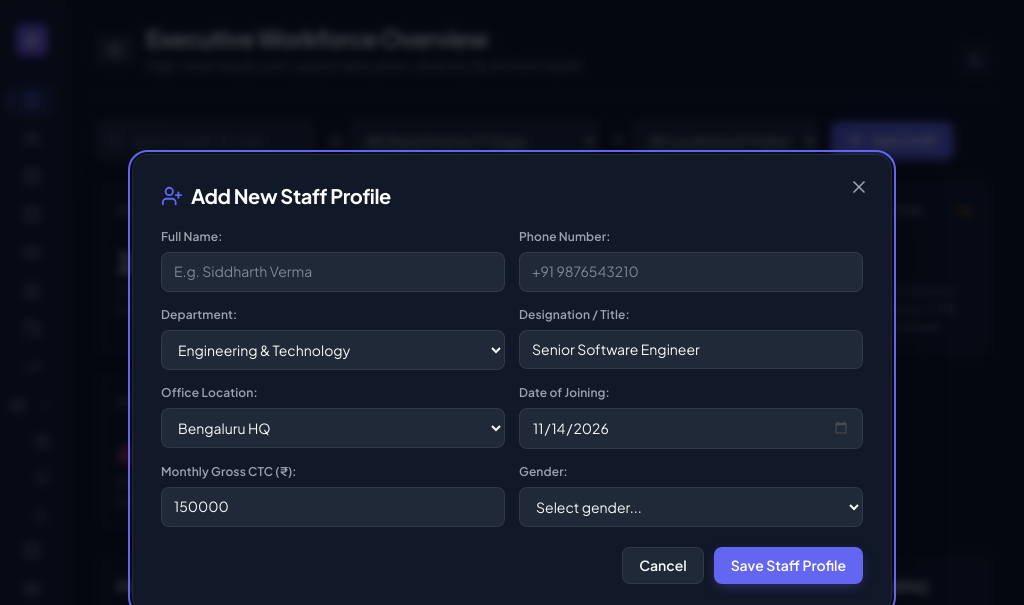
Test: App destructive and confirmational actions › asks before resetting the register, and says what is lost
This screenshot has width=1024, height=605.
Earlier steps of the test are not shown.
In the field labelled "Full Name:": (333, 272) [161,252,505,292], type "Rhea Kapoor"
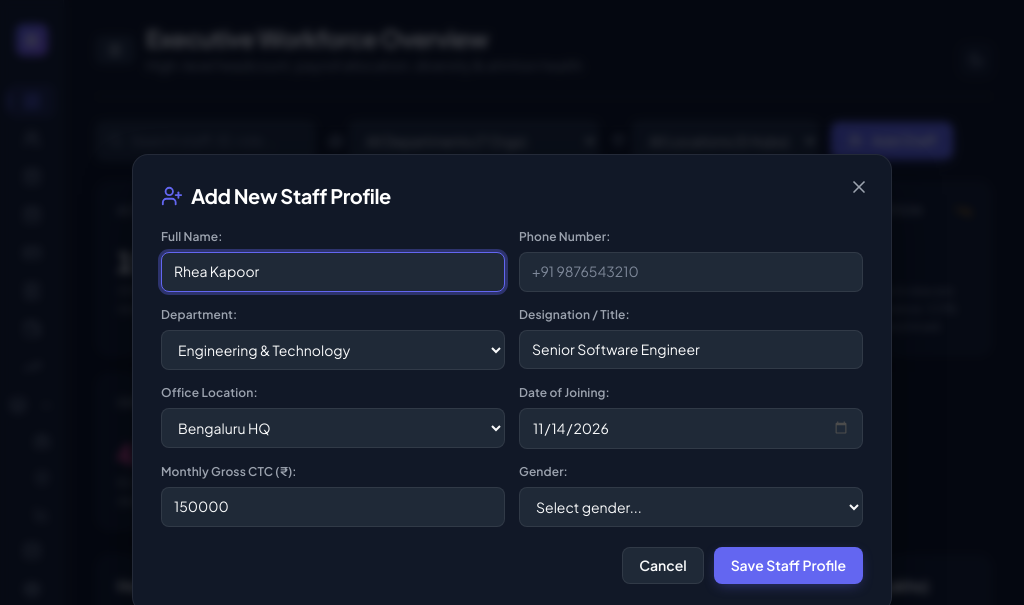
Select "Female" in the dropdown labelled "Gender:": (691, 508) [519,488,863,528]
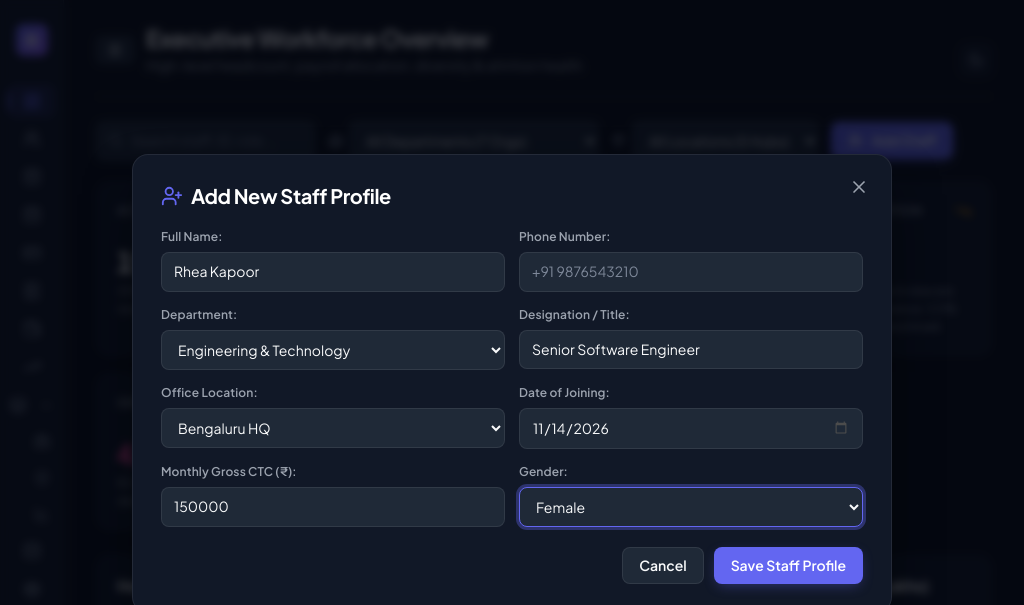
Click the button "Save Staff Profile": (788, 566) [714,548,863,584]
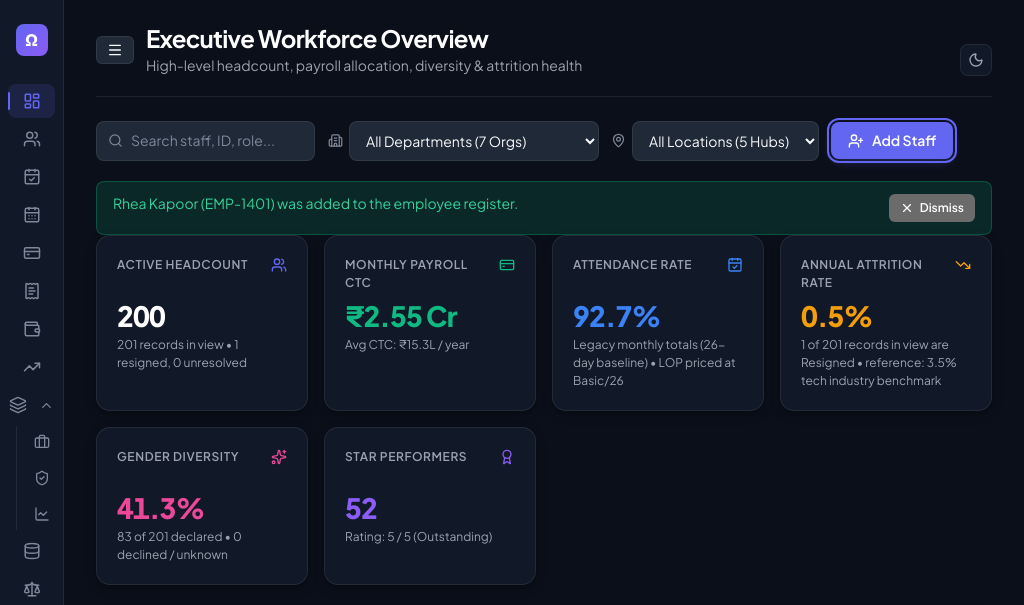
Check: the message "Rhea Kapoor (EMP-1401) was added to the employee register. Dismiss" is shown, box [96,181,992,235]
Click the button with aria-label "Dismiss this message": (932, 208) [889,194,975,222]
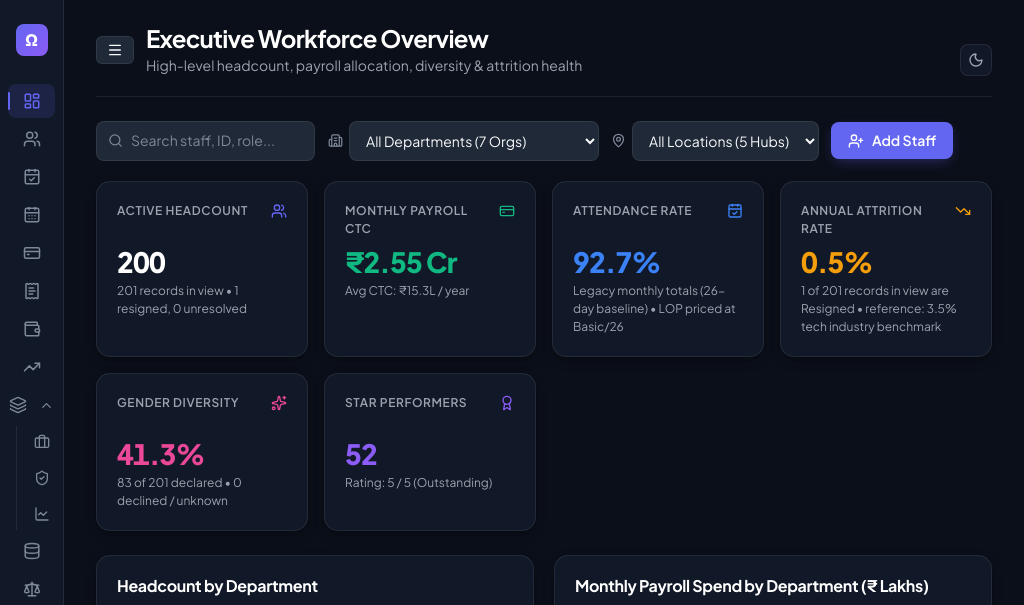
Click the button named "Admin & Settings": (32, 551) [8,534,55,568]
(page scrolled)
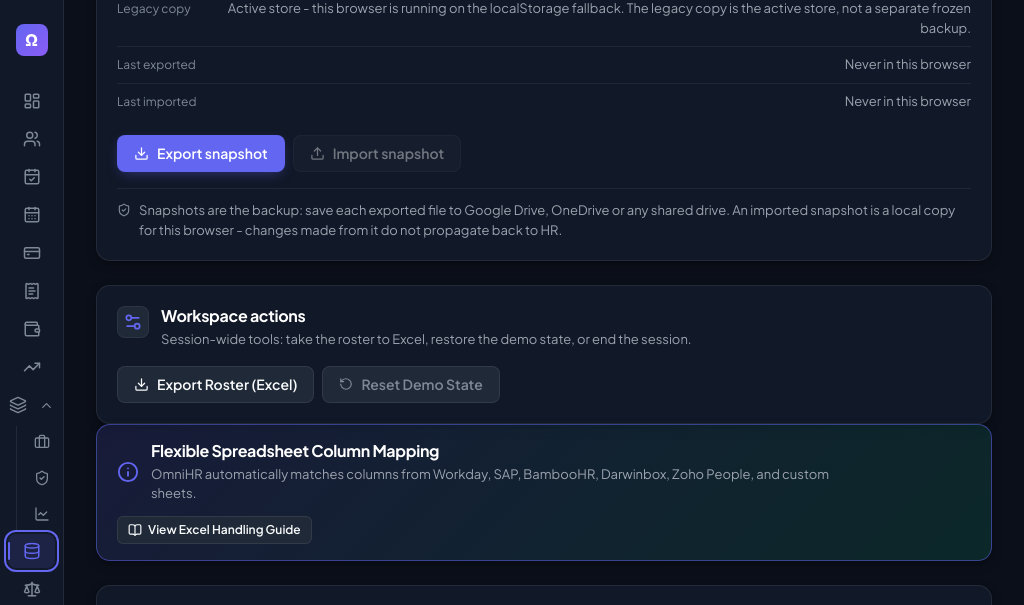
Click the button "Reset Demo State": (411, 384) [322,366,500,403]
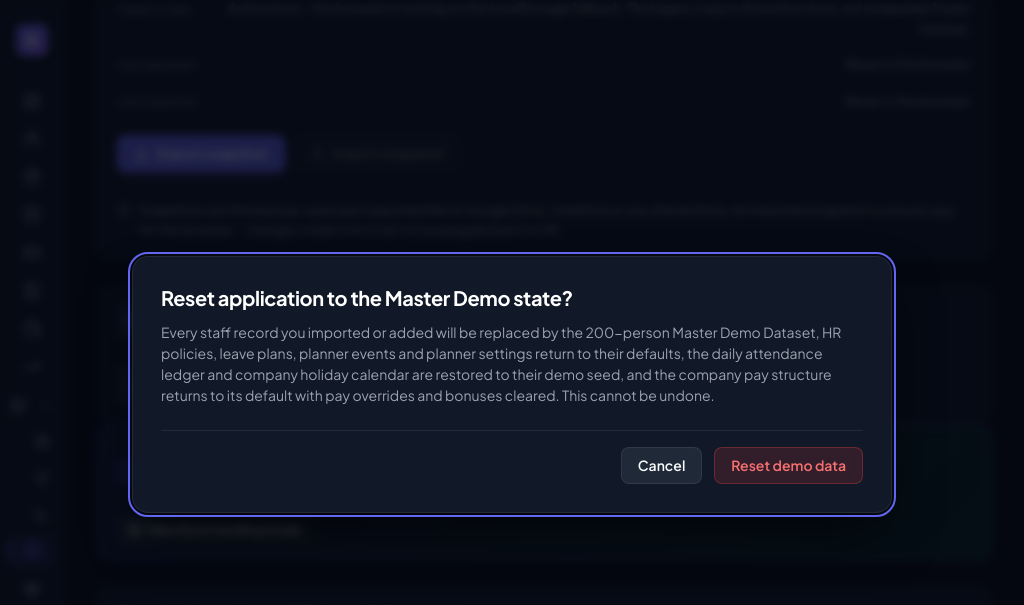
Check: the dialog shows "replaced by the 200-person Master Demo Dataset", box [161,322,841,404]
Check: the dialog shows "cannot be undone", box [161,322,841,404]
